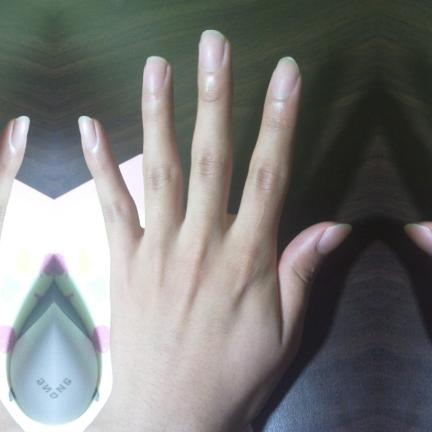Nail: (268, 57, 298, 99), (315, 223, 352, 257), (200, 30, 226, 70), (402, 223, 432, 257), (142, 58, 168, 93), (77, 116, 96, 152), (10, 116, 29, 152)
